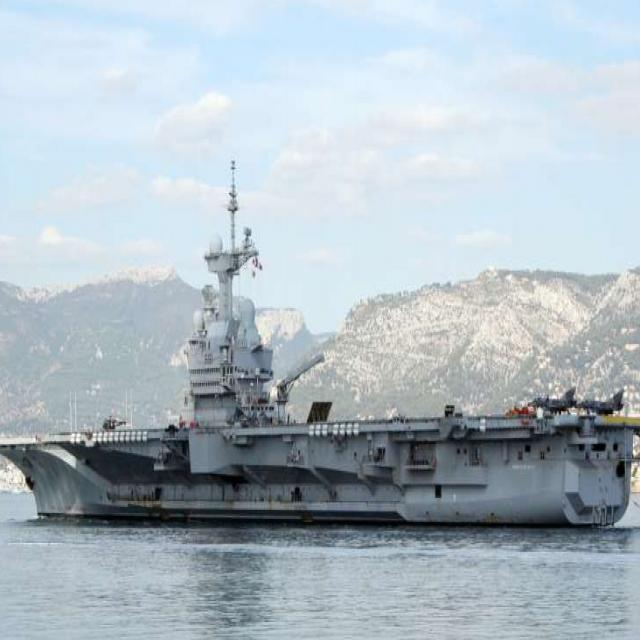Portanaves: (1, 155, 640, 532)
